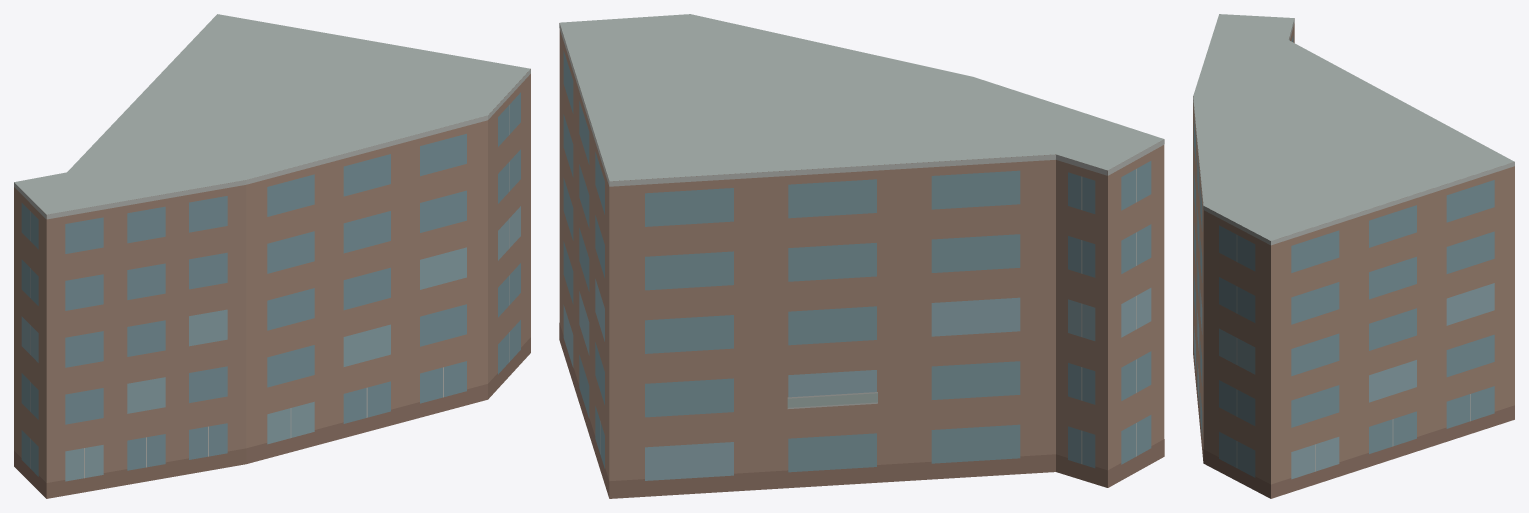
The model's file is survey-upis-33003583.glb.
3 renders of one model, left to right at view 1: azimuth 30°, elevation 25°; view 2: azimuth 150°, elevation 25°; view 3: azimuth 270°, elevation 25°, orthographic. The views are drawn at different scales.
Parts seen in each view (by area): view 1: survey-upis-33003583.tmp; view 2: survey-upis-33003583.tmp; view 3: survey-upis-33003583.tmp.
Part boxes in pixels (x1,y1,x2,y2): survey-upis-33003583.tmp: [14, 14, 530, 498]; survey-upis-33003583.tmp: [559, 14, 1164, 498]; survey-upis-33003583.tmp: [1193, 14, 1514, 498].
Size of the model in its own units: 27.21 by 14.4 by 16.29.
